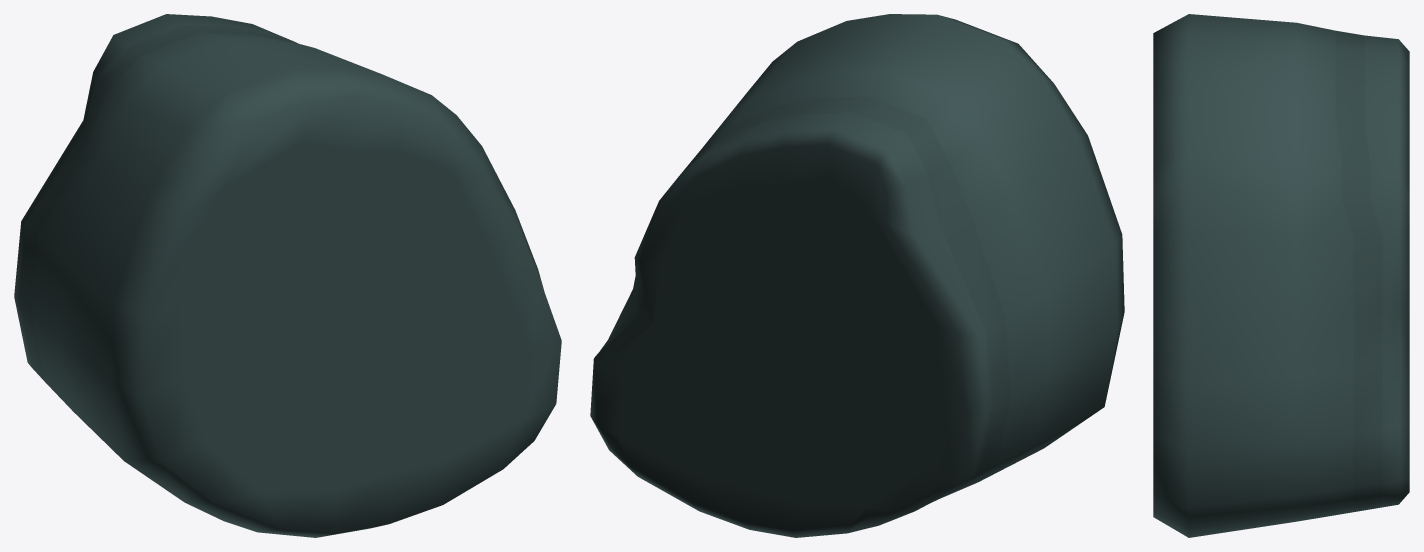
The model's file is AlienPlateuTiny.glb.
3 views of the same model, side by side, from view 1: azimuth 30°, elevation 25°; view 2: azimuth 150°, elevation 25°; view 3: azimuth 270°, elevation 25° (orthographic). The views are drawn at different scales.
Parts seen in each view (by area): view 1: AlienPlateuTiny; view 2: AlienPlateuTiny; view 3: AlienPlateuTiny.
Boxes of the visible parts, x1,y1,x2,y2 form: AlienPlateuTiny: [14, 14, 561, 537]; AlienPlateuTiny: [590, 14, 1124, 537]; AlienPlateuTiny: [1153, 14, 1409, 537].
Size of the model in its own units: 2258 by 2333 by 1236.
